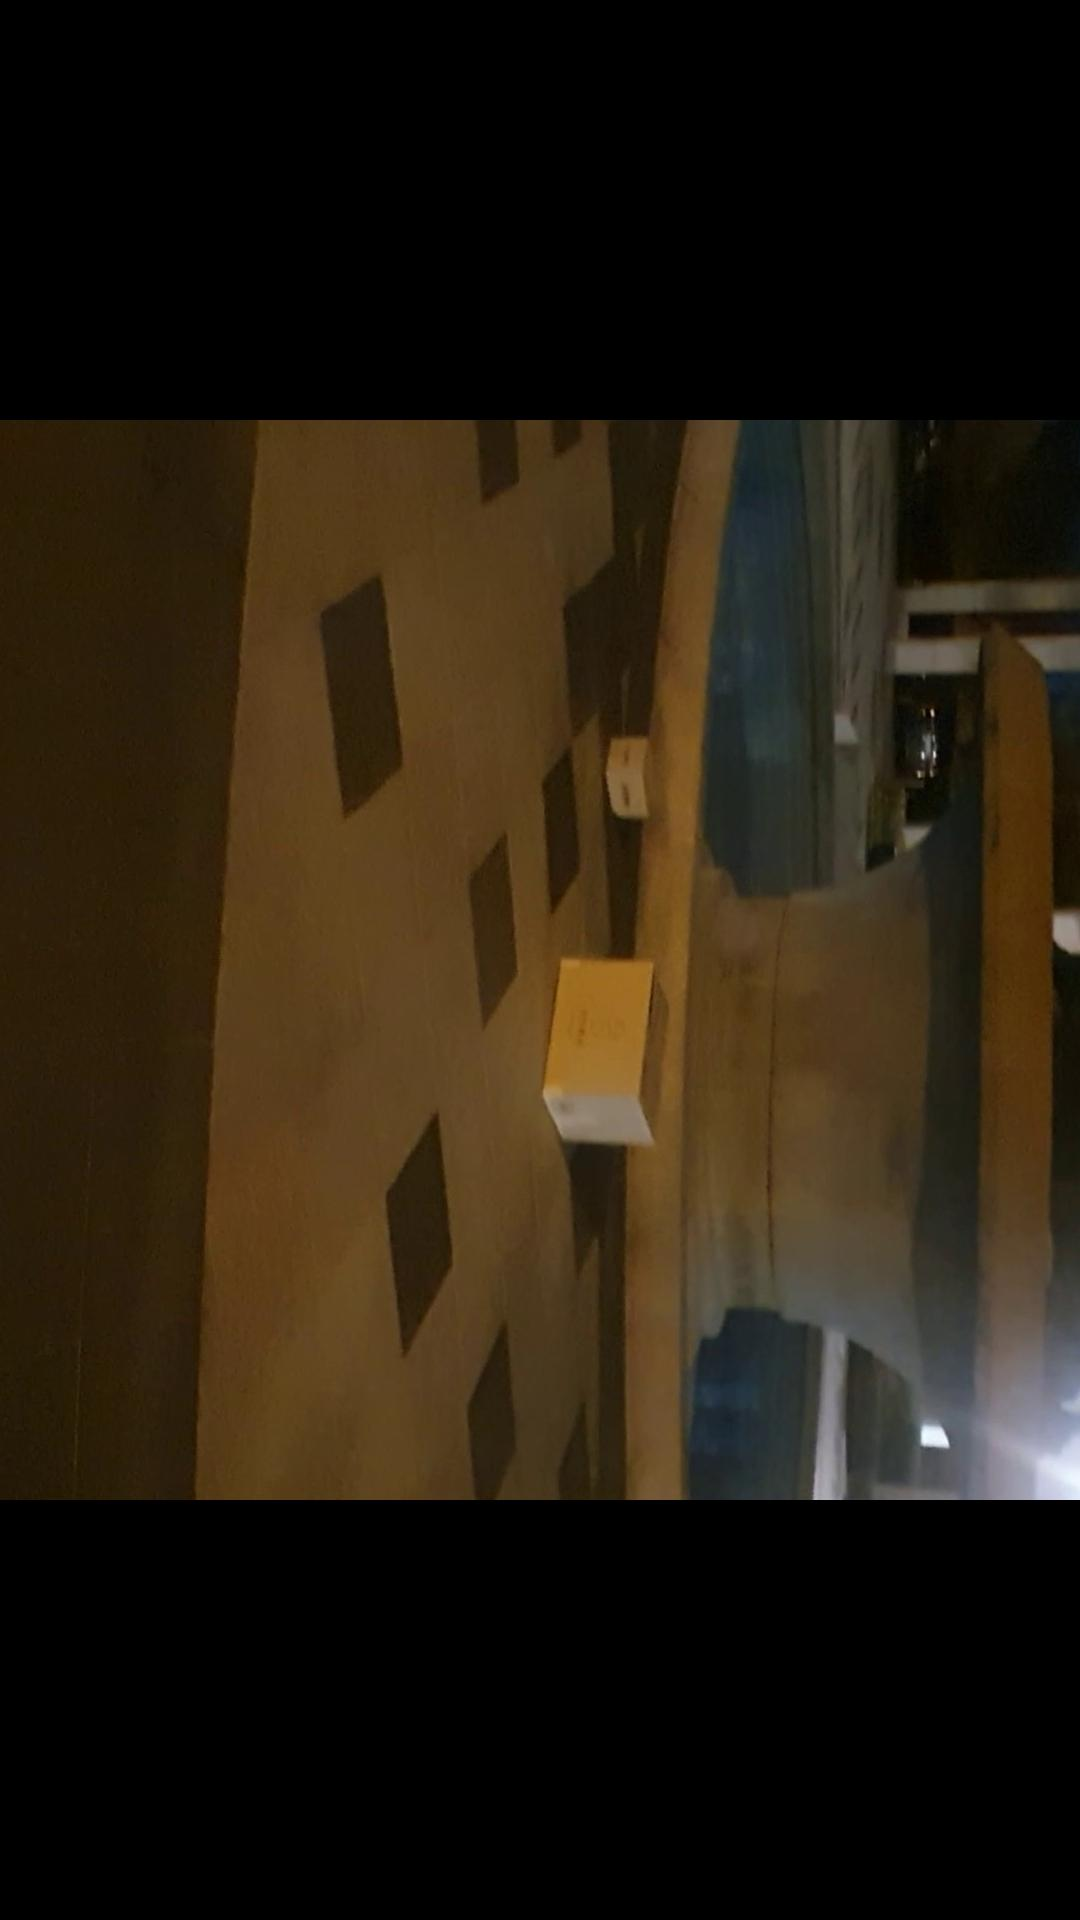Box: (537, 956, 682, 1147), (597, 721, 670, 829)
